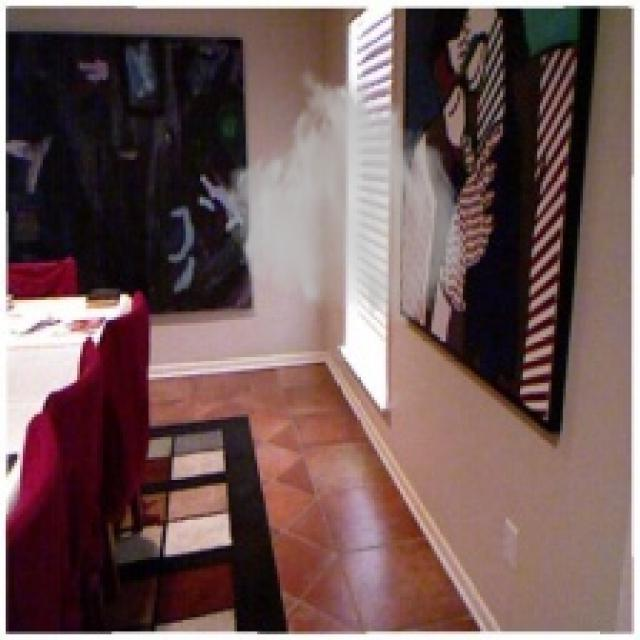Smoke: (223, 65, 468, 328)
